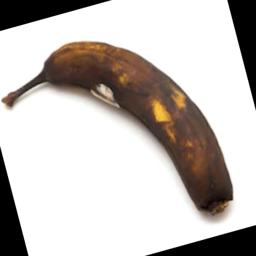Banana Rotten: (21, 26, 242, 219)
